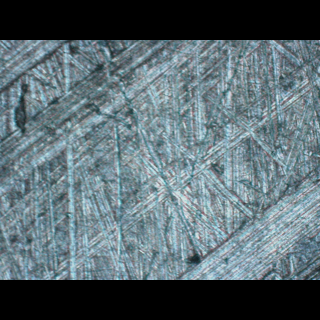d: (0, 39, 205, 200)
